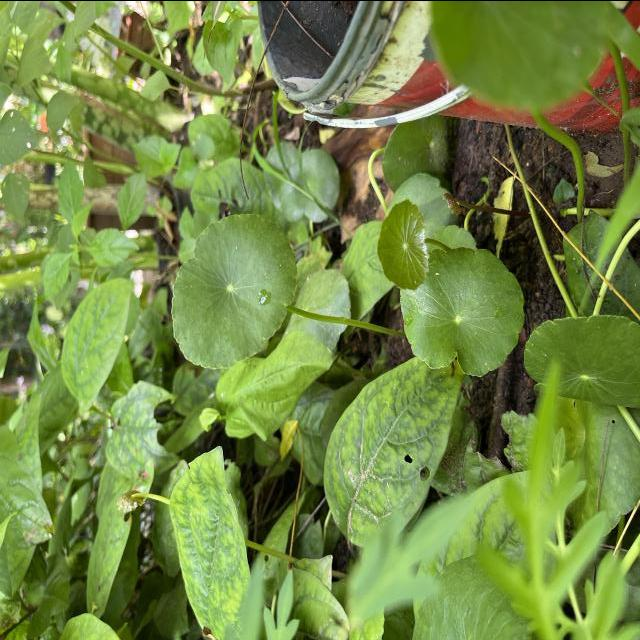Bacopa monnieri: (168, 208, 299, 372), (396, 242, 528, 380), (374, 193, 432, 294)
